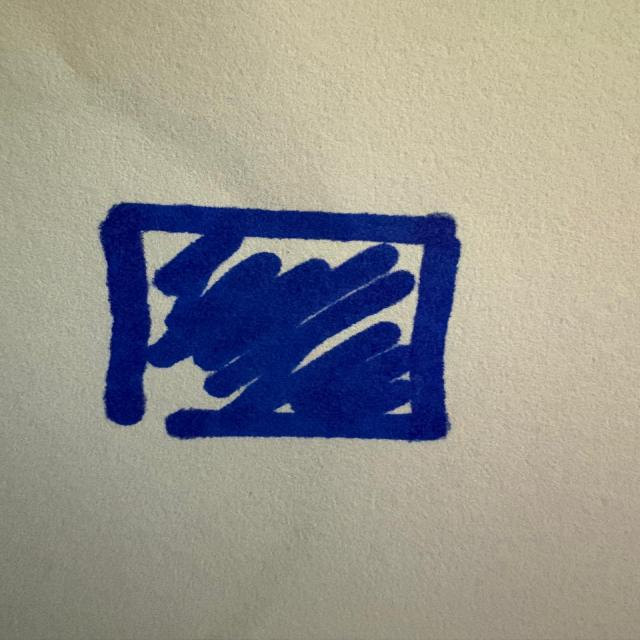Square: (93, 190, 467, 449)
